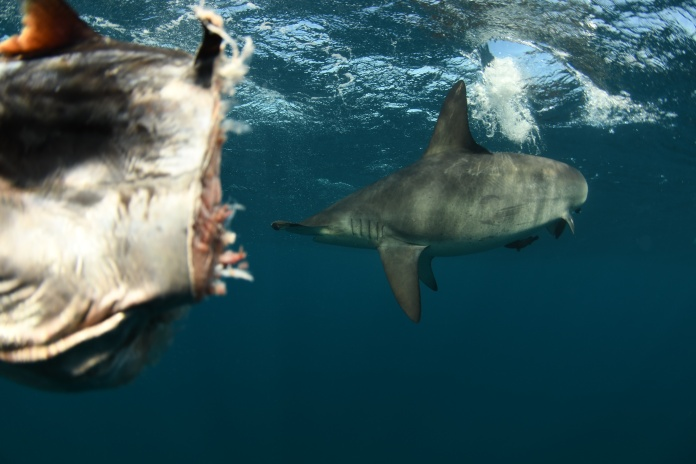Hammer: (255, 76, 624, 335)
